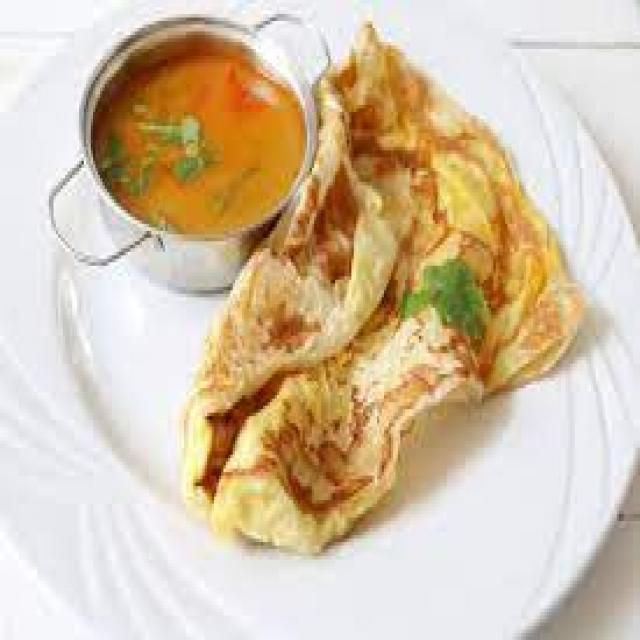Paratha: (173, 0, 600, 546)
